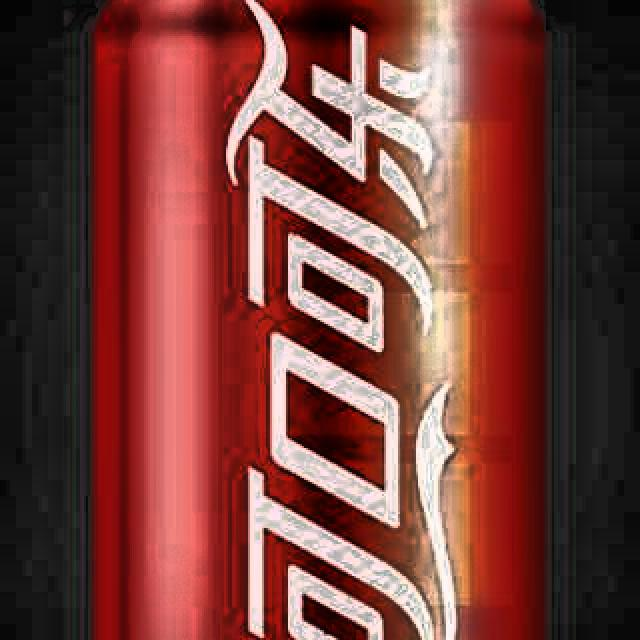metal: (68, 0, 588, 640)
